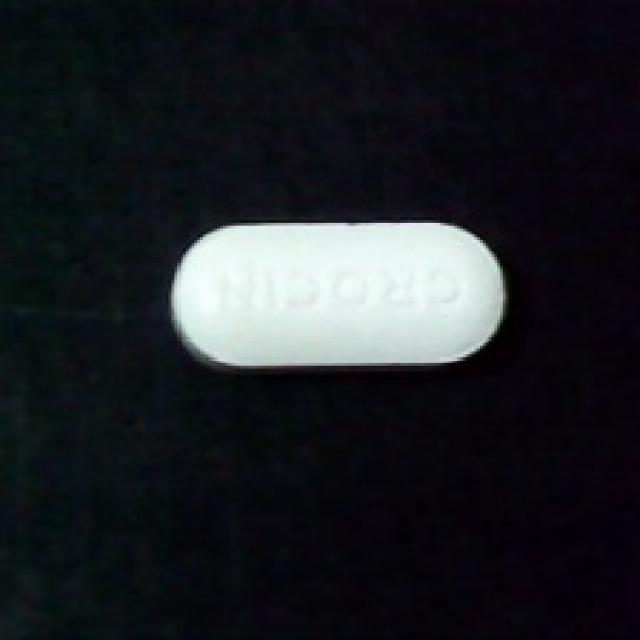no-defect: (166, 217, 514, 380)
